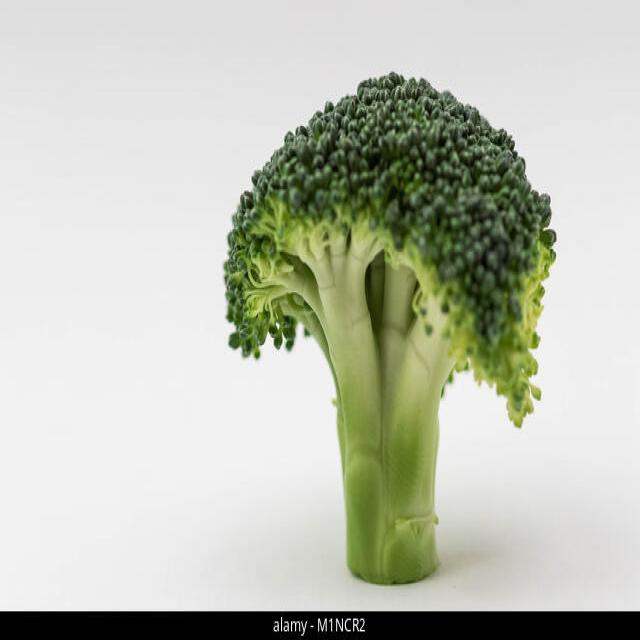broccoli: (223, 67, 561, 588)
